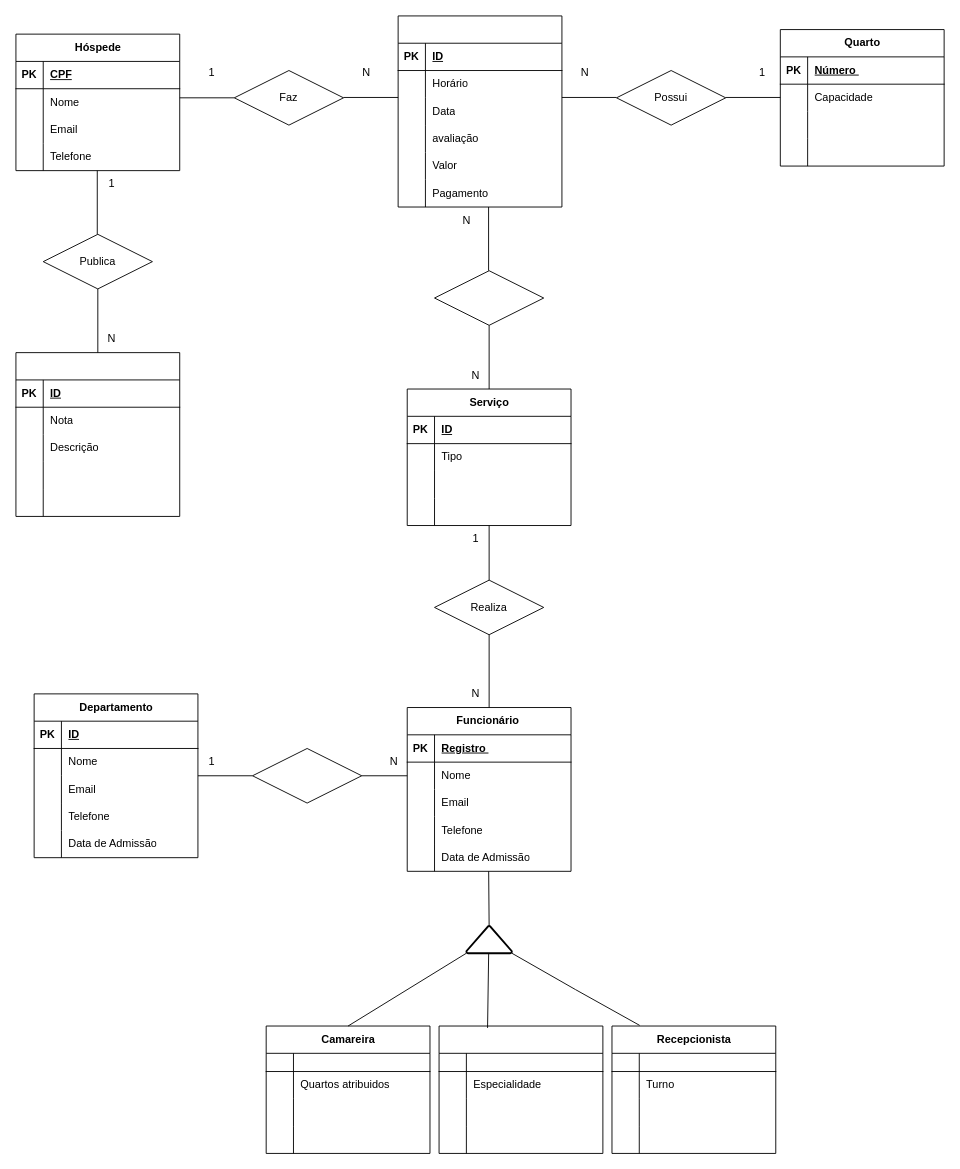
Some shapes in this 960 by 1169 pixel diagram are drawn without their labels. The box of each missing label's shape, as (x1, y1, x2, y2) in pixels:
Comentário: (15, 352, 180, 516)
Contém: (434, 270, 544, 325)
Cozinheiro: (438, 1025, 603, 1153)
Pertence: (252, 748, 362, 803)
Reserva: (397, 15, 562, 207)
